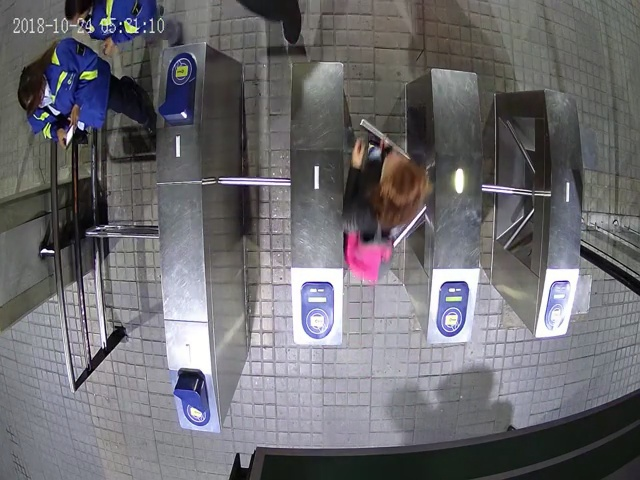Chaleco_azul: (17, 38, 159, 140), (64, 1, 184, 47)
